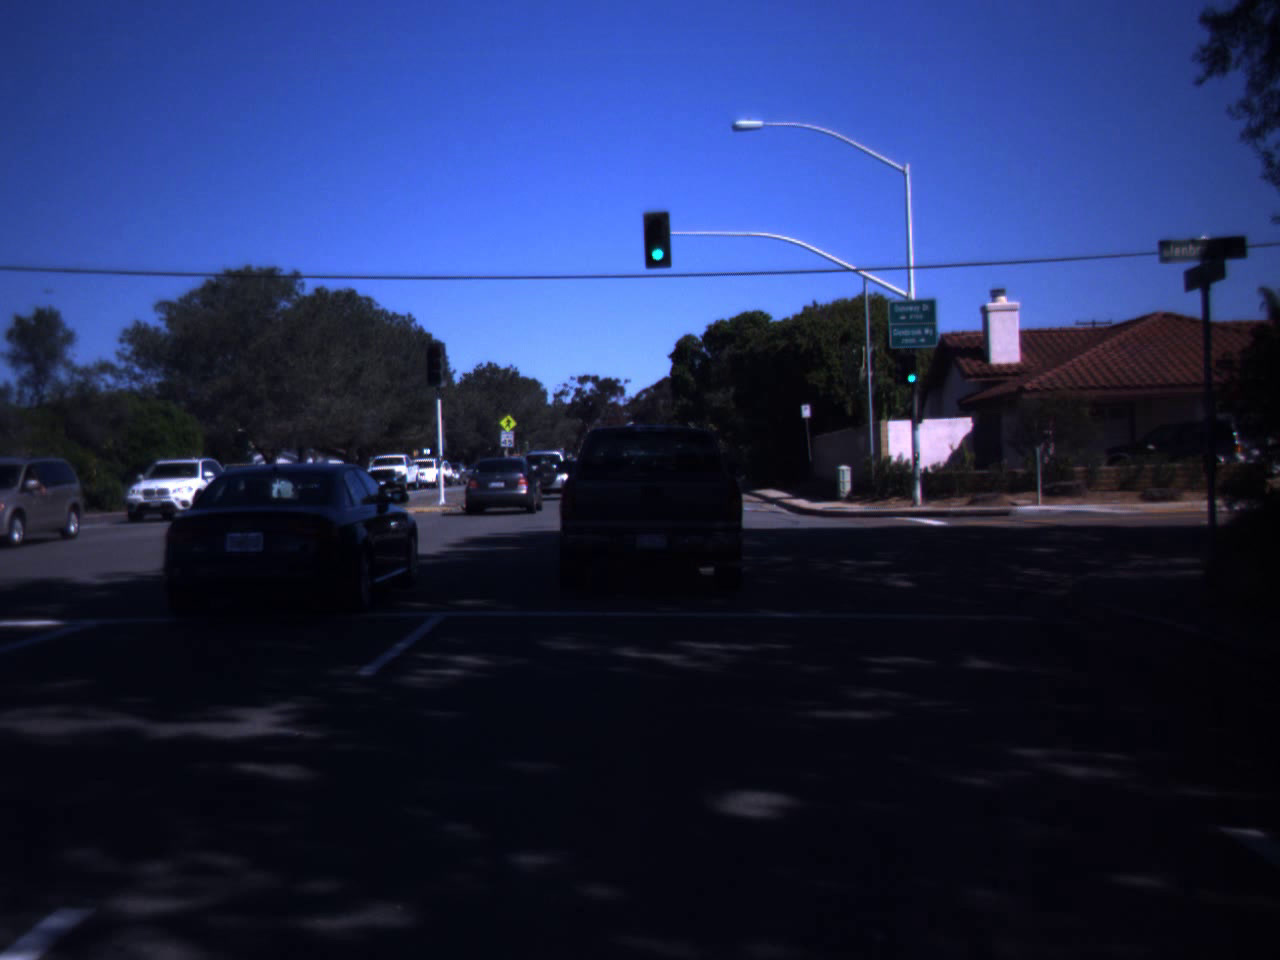go: (641, 215, 674, 265), (901, 355, 922, 385)
